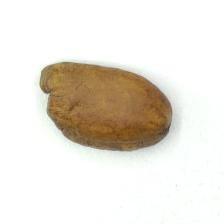NG: (41, 68, 71, 140)
